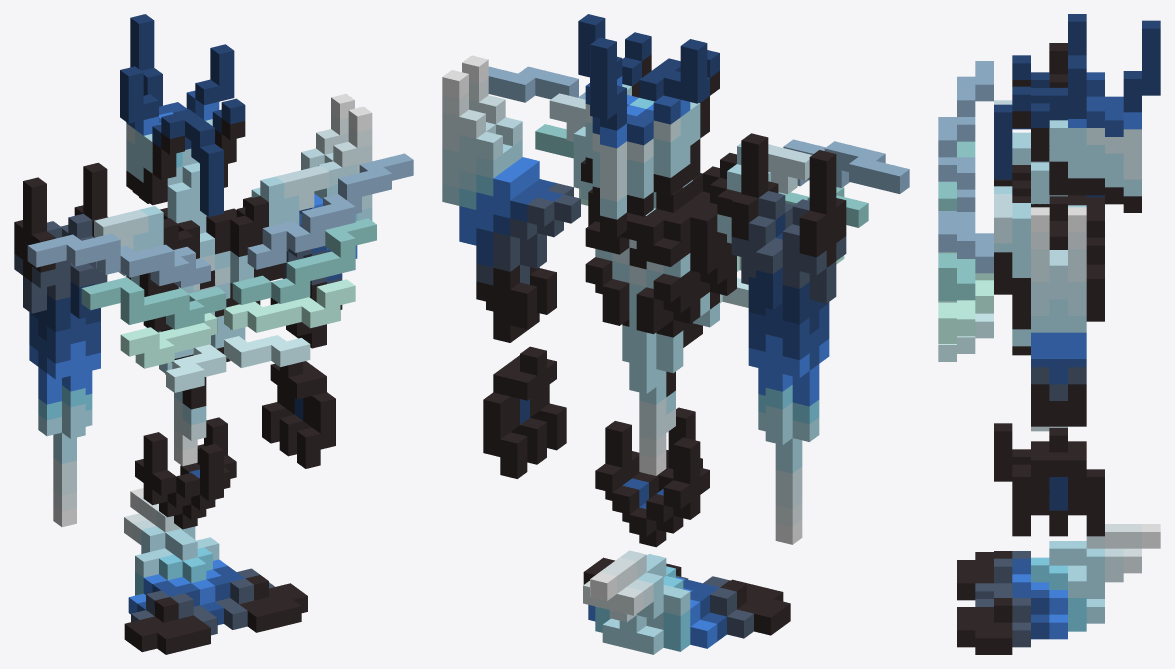
File: Glacial Lord Temp Full.obj
3 views of the same model, side by side, from view 1: azimuth 30°, elevation 25°; view 2: azimuth 150°, elevation 25°; view 3: azimuth 270°, elevation 25° (orthographic). The views are drawn at different scales.
Visible parts, largest first — view 1: Glacial Lord Temp Full; view 2: Glacial Lord Temp Full; view 3: Glacial Lord Temp Full.
Boxes of the visible parts, box(x1,y1,x2,y2) form: Glacial Lord Temp Full: box(14, 14, 413, 654); Glacial Lord Temp Full: box(442, 14, 909, 654); Glacial Lord Temp Full: box(938, 14, 1160, 654).
Bounding box in the file's own units: 25 × 35 × 12.
Materials: 1 (1 with a texture image).
